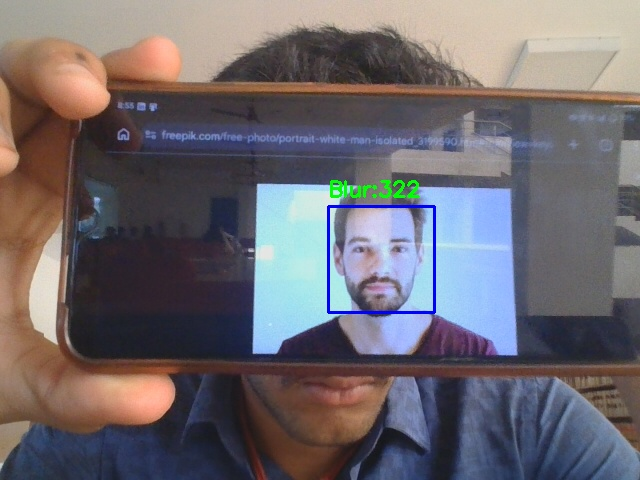fake: (328, 206, 434, 312)
